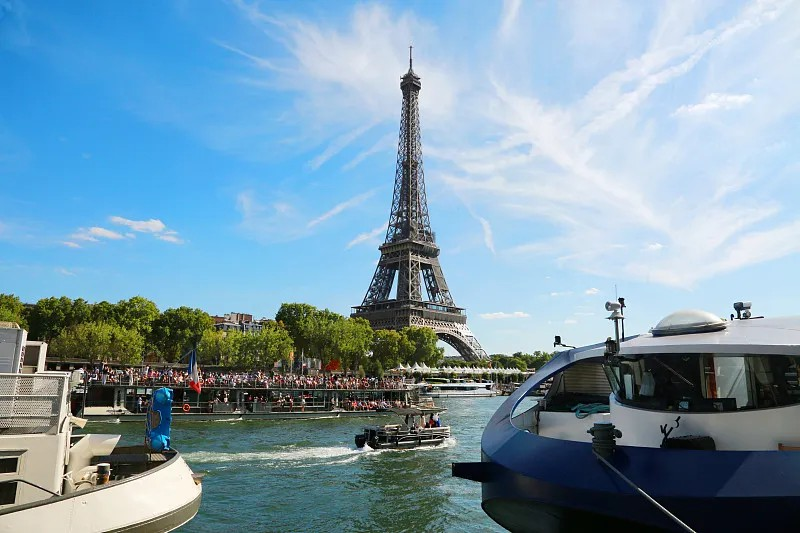Eiffel: (348, 46, 492, 367)
